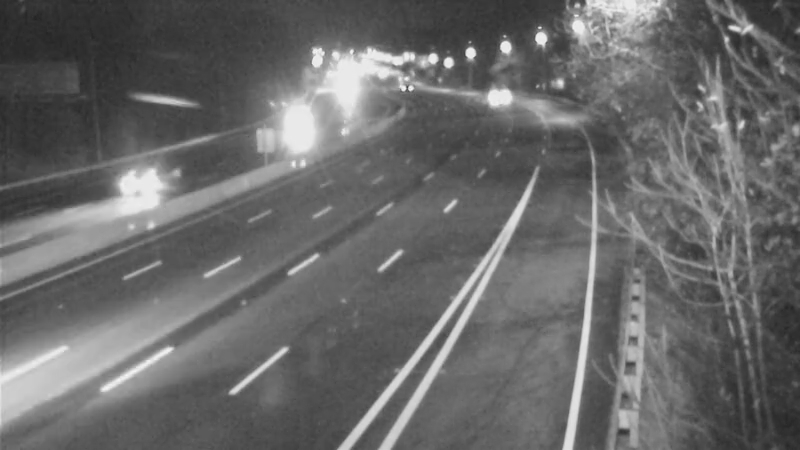vehicle: (102, 140, 182, 220), (382, 55, 432, 105), (472, 73, 522, 123), (274, 105, 324, 155)
